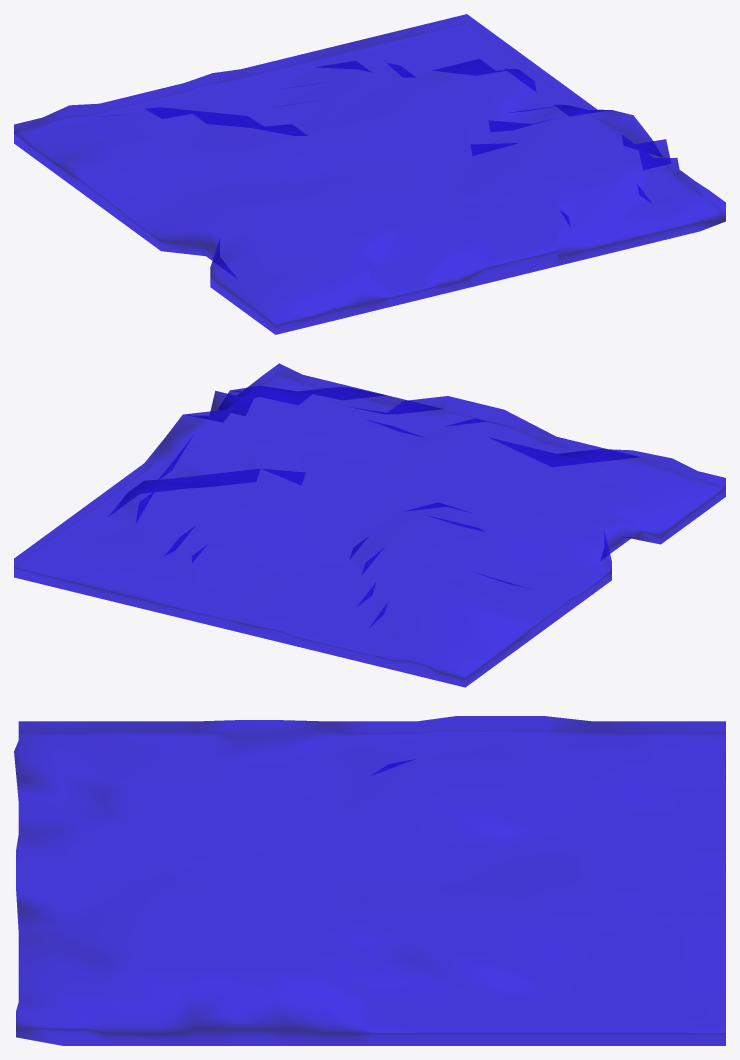
The model's file is wave1.glb.
3 renders of one model, top to bottom at view 1: azimuth 30°, elevation 25°; view 2: azimuth 150°, elevation 25°; view 3: azimuth 270°, elevation 25°, orthographic. The views are drawn at different scales.
Visible parts, largest first — view 1: Cube; view 2: Cube; view 3: Cube.
Boxes of the visible parts, x1=… form: Cube: x1=14, y1=14, x2=725, y2=334; Cube: x1=14, y1=363, x2=725, y2=687; Cube: x1=14, y1=716, x2=725, y2=1045.
Bounding box in the file's own units: 100 × 8.81 × 101.
